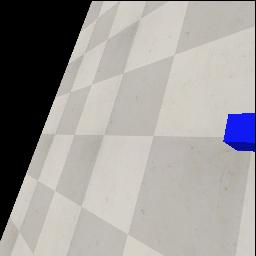box: (223, 113, 256, 152)
